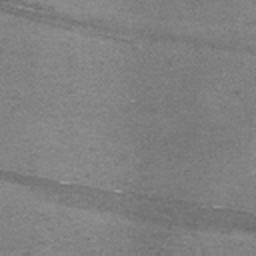Finishing roll printing: (0, 169, 256, 233), (0, 0, 256, 56)
